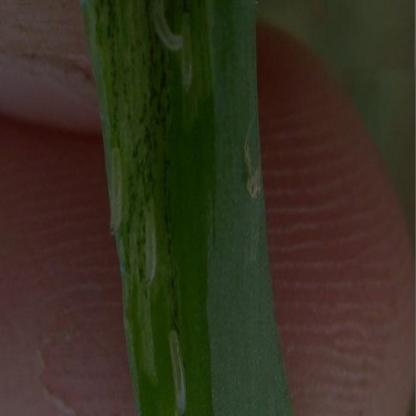whorl-maggot: (162, 321, 190, 416), (140, 192, 160, 292), (152, 0, 184, 57), (108, 142, 126, 242), (179, 10, 194, 94)
